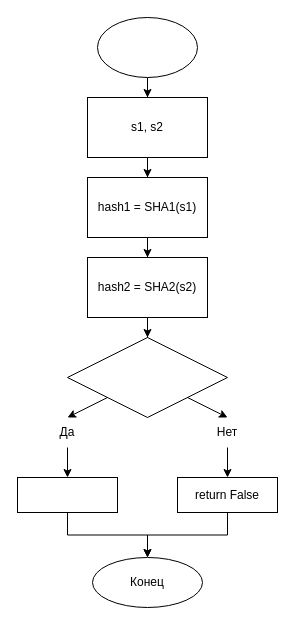
Some shapes in this 295 by 625 pixel diagram are drawn without their labels. The centre of each missing label's shape, as x and y in pixels:
"hash1 == hash2 ?" goes at (147,377).
"return True" goes at (67,494).
"Начало" goes at (147,47).
